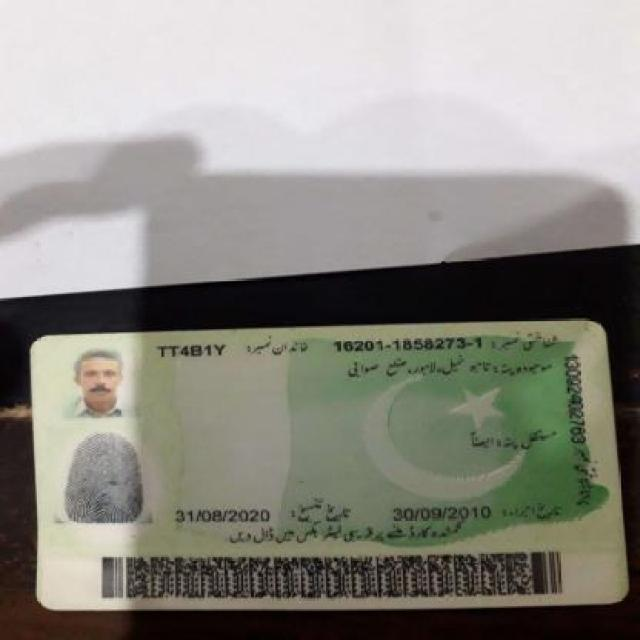Back: (20, 324, 634, 610)
